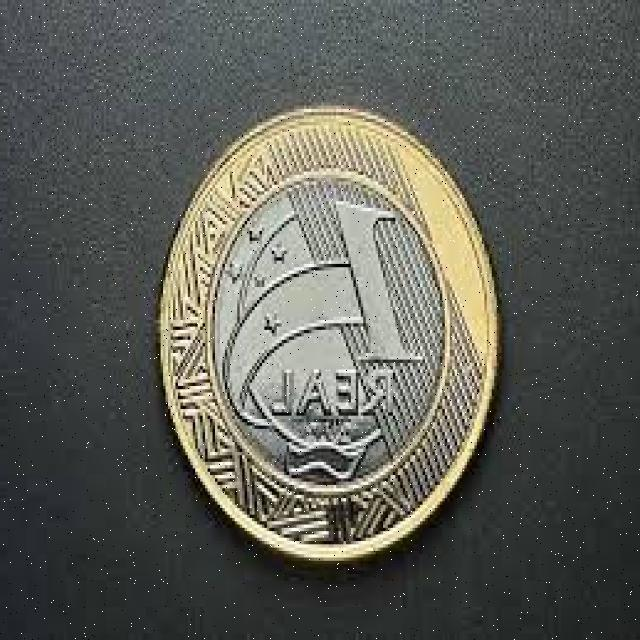1 real: (145, 111, 496, 551)
